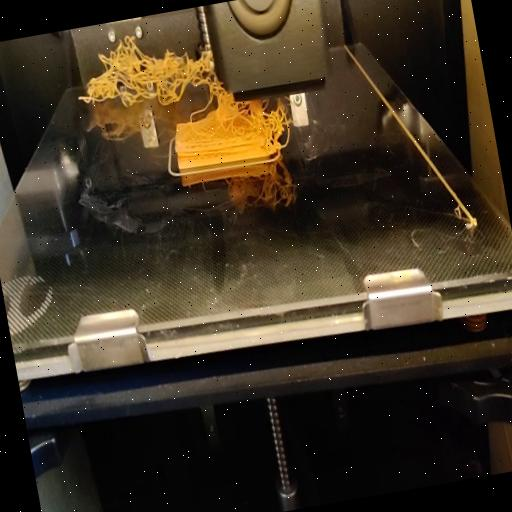spaghetti: (68, 23, 220, 118), (194, 95, 297, 156)
